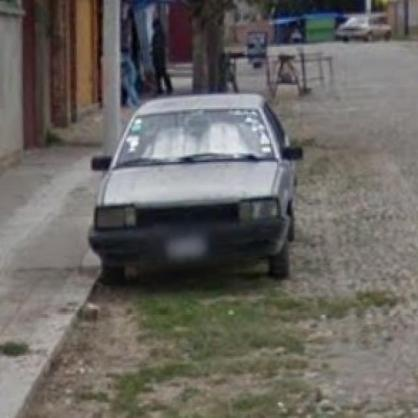car: (86, 96, 304, 287)
